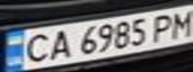5: (127, 16, 154, 47)
6: (75, 22, 100, 56)
8: (112, 18, 136, 50)
9: (93, 20, 118, 53)
A: (45, 27, 75, 61)
C: (18, 30, 54, 65)
M: (166, 7, 193, 38)
P: (148, 11, 178, 43)
